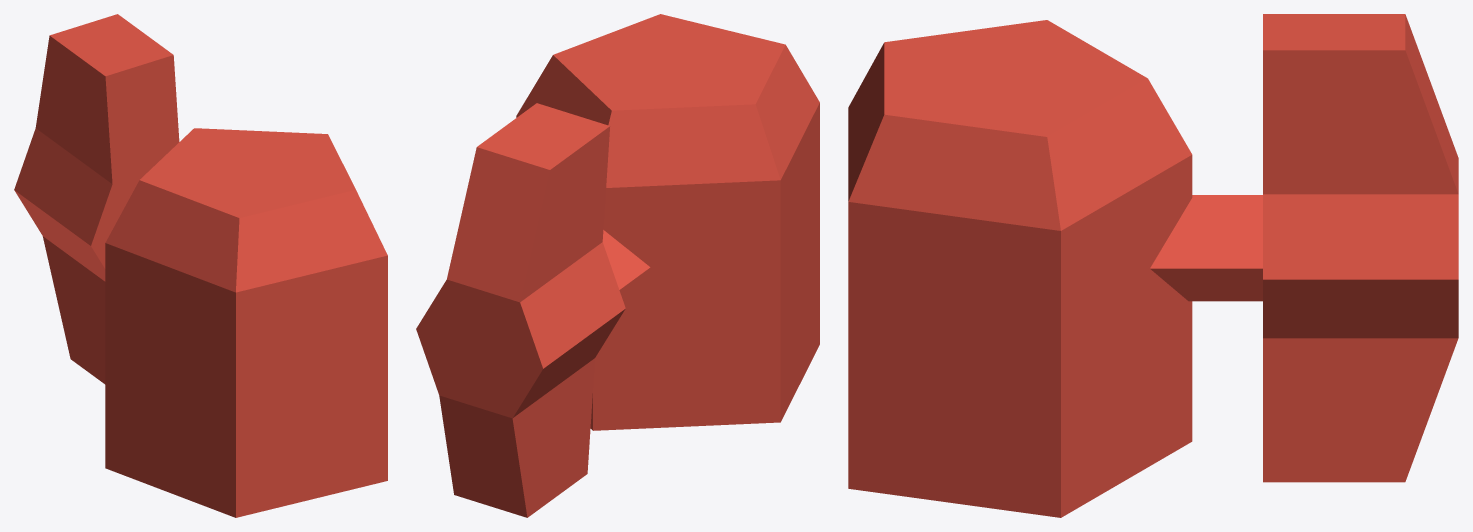
The model's file is SM_Light_Square_Small_Base.fbx.
The picture shows the model from 3 angles, left to right: view 1: azimuth 30°, elevation 25°; view 2: azimuth 150°, elevation 25°; view 3: azimuth 270°, elevation 25°; orthographic projection. The views are drawn at different scales.
Parts seen in each view (by area): view 1: SM_Light_Square_Small_Base; view 2: SM_Light_Square_Small_Base; view 3: SM_Light_Square_Small_Base.
Boxes of the visible parts, left/top/right/bottom form: SM_Light_Square_Small_Base: left=14, top=14, right=387, bottom=517; SM_Light_Square_Small_Base: left=416, top=14, right=819, bottom=517; SM_Light_Square_Small_Base: left=848, top=14, right=1458, bottom=517.
Bounding box in the file's own units: 7.08 × 4.2 × 5.5.
